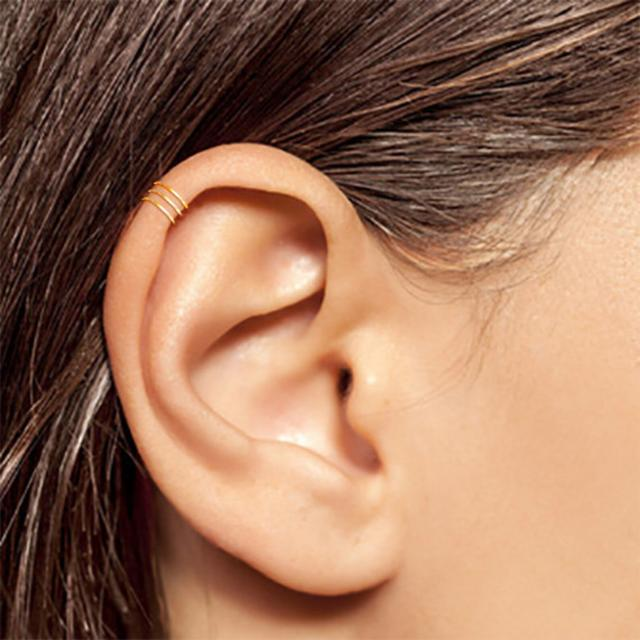earlobe: (102, 141, 402, 597)
